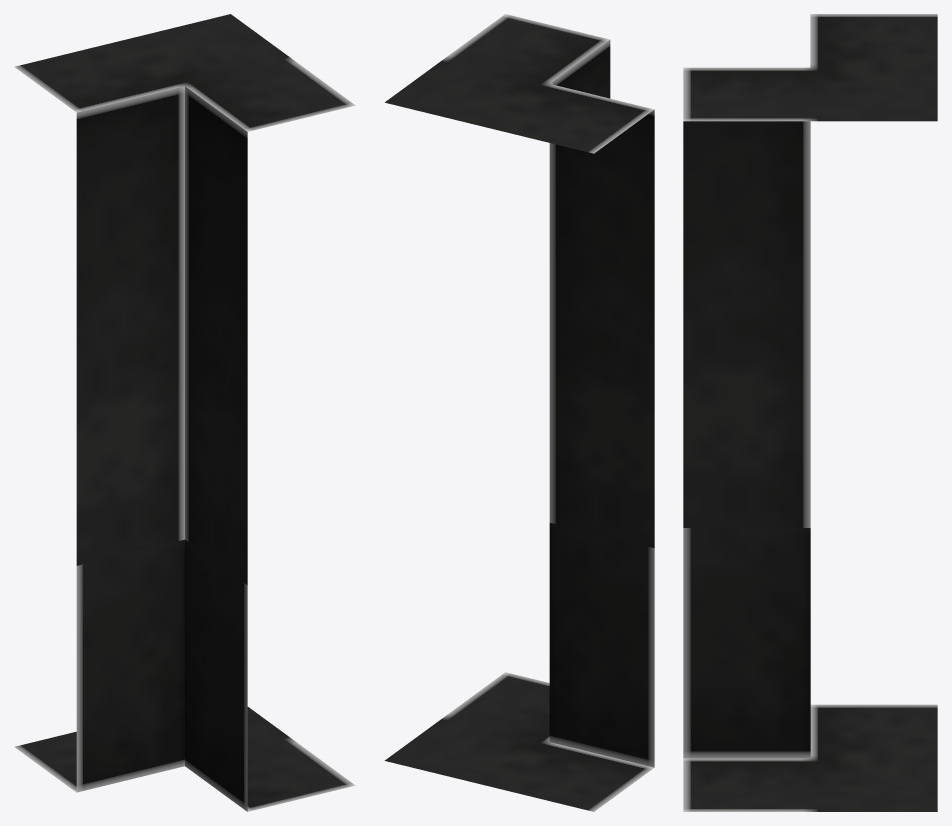
Rendered from corner-out.obj.
The picture shows the model from 3 angles, left to right: view 1: azimuth 30°, elevation 25°; view 2: azimuth 150°, elevation 25°; view 3: azimuth 270°, elevation 25°; orthographic projection. The views are drawn at different scales.
Parts seen in each view (by area): view 1: Plane.005; view 2: Plane.005; view 3: Plane.005.
Boxes of the visible parts, box(x1,y1,x2,y2) form: Plane.005: box(14, 14, 355, 811); Plane.005: box(384, 14, 654, 811); Plane.005: box(683, 14, 937, 811).
Size of the model in its own units: 2 by 6 by 2.
Materials: 1 (1 with a texture image).
